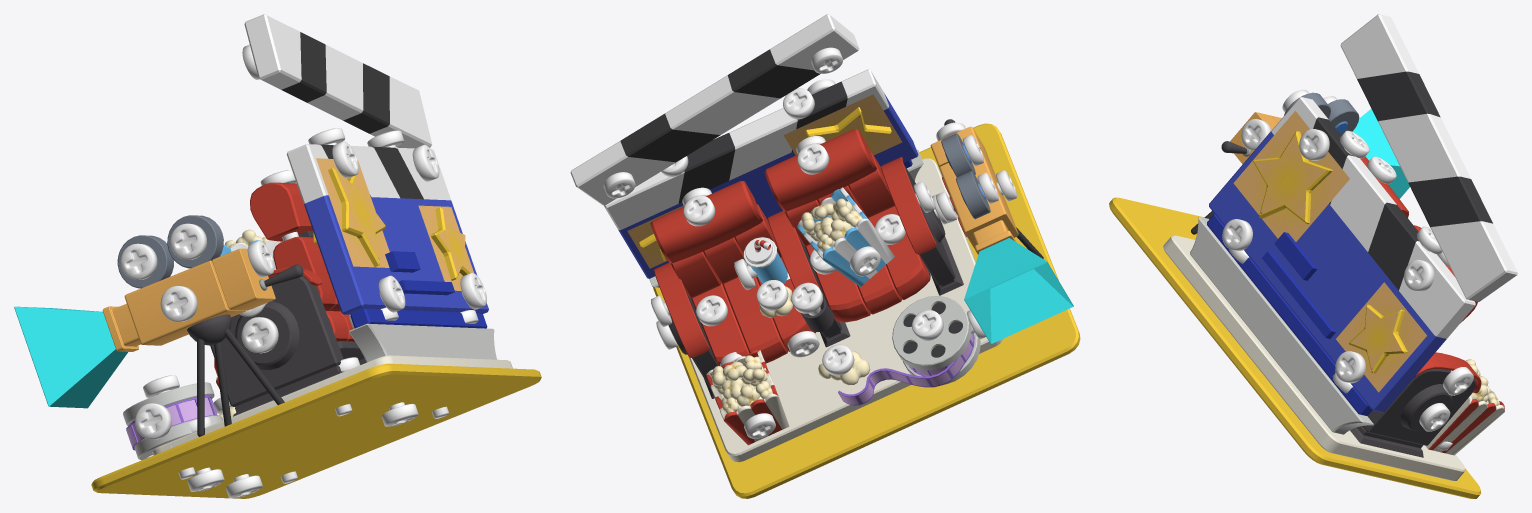
File: TheaterSeats.fbx
The picture shows the model from 3 angles, left to right: view 1: azimuth 30°, elevation 25°; view 2: azimuth 150°, elevation 25°; view 3: azimuth 270°, elevation 25°; orthographic projection. The views are drawn at different scales.
Visible parts, largest first — view 1: Board_TheaterSeats_13, Board_TheaterSeats_4, Board_TheaterSeats_9, Board_TheaterSeats_28, Screw (×13), Board_TheaterSeats_19, Board_TheaterSeats_3, Board_TheaterSeats_12, Board_TheaterSeats_21, Board_TheaterSeats_33, Board_TheaterSeats_22, Board_TheaterSeats_25 (+4 smaller); view 2: Board_TheaterSeats_13, Board_TheaterSeats_4, Board_TheaterSeats_28, Board_TheaterSeats_22, Board_TheaterSeats_9, Screw (×14), Board_TheaterSeats_21, Board_TheaterSeats_26, Board_TheaterSeats_33, Board_TheaterSeats_6, Board_TheaterSeats_14, Board_TheaterSeats_19 (+17 smaller); view 3: Board_TheaterSeats_4, Board_TheaterSeats_28, Board_TheaterSeats_13, Board_TheaterSeats_3, Board_TheaterSeats_22, Screw (×9), Board_TheaterSeats_27, Board_TheaterSeats_14, Board_TheaterSeats_9, Board_TheaterSeats_5, Board_TheaterSeats_11.
Part boxes in pixels (left/top/right/bottom): Board_TheaterSeats_13: left=91, top=363, right=541, bottom=498; Board_TheaterSeats_4: left=286, top=144, right=488, bottom=328; Board_TheaterSeats_9: left=14, top=248, right=303, bottom=408; Board_TheaterSeats_28: left=244, top=14, right=432, bottom=148; Screw (×13): left=120, top=141, right=486, bottom=498; Board_TheaterSeats_19: left=210, top=267, right=343, bottom=416; Board_TheaterSeats_3: left=349, top=323, right=496, bottom=362; Board_TheaterSeats_12: left=187, top=314, right=284, bottom=436; Board_TheaterSeats_21: left=123, top=382, right=223, bottom=460; Board_TheaterSeats_33: left=250, top=182, right=312, bottom=241; Board_TheaterSeats_22: left=152, top=355, right=512, bottom=455; Board_TheaterSeats_25: left=235, top=301, right=299, bottom=369; Board_TheaterSeats_13: left=653, top=123, right=1080, bottom=498; Board_TheaterSeats_4: left=604, top=69, right=918, bottom=278; Board_TheaterSeats_28: left=570, top=14, right=859, bottom=205; Board_TheaterSeats_22: left=689, top=158, right=1002, bottom=462; Board_TheaterSeats_9: left=930, top=119, right=1073, bottom=343; Screw (×14): left=603, top=47, right=943, bottom=438; Board_TheaterSeats_21: left=838, top=296, right=980, bottom=405; Board_TheaterSeats_26: left=797, top=187, right=894, bottom=286; Board_TheaterSeats_33: left=764, top=128, right=876, bottom=211; Board_TheaterSeats_6: left=650, top=181, right=762, bottom=263; Board_TheaterSeats_14: left=706, top=350, right=789, bottom=445; Board_TheaterSeats_19: left=881, top=157, right=963, bottom=295; Board_TheaterSeats_4: left=1207, top=97, right=1475, bottom=415; Board_TheaterSeats_28: left=1340, top=14, right=1517, bottom=301; Board_TheaterSeats_13: left=1109, top=197, right=1480, bottom=498; Board_TheaterSeats_3: left=1190, top=216, right=1373, bottom=434; Board_TheaterSeats_22: left=1163, top=235, right=1465, bottom=480; Screw (×9): left=1222, top=119, right=1473, bottom=431; Board_TheaterSeats_27: left=1350, top=352, right=1481, bottom=457; Board_TheaterSeats_14: left=1425, top=359, right=1504, bottom=455; Board_TheaterSeats_9: left=1221, top=108, right=1409, bottom=198; Board_TheaterSeats_5: left=1400, top=384, right=1452, bottom=430; Board_TheaterSeats_11: left=1328, top=99, right=1359, bottom=135.
Bounding box in the file's own units: 11.04 × 11.46 × 9.14.
3 materials, 2 textured.
